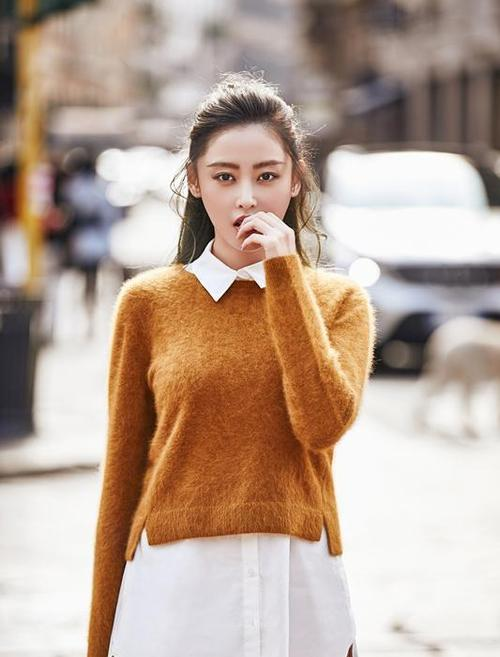no_mask: (176, 73, 312, 261)
